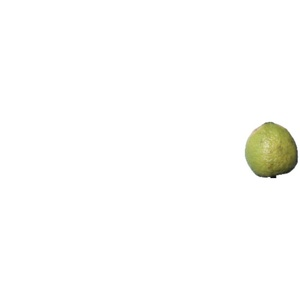limão: (244, 122, 298, 178)
